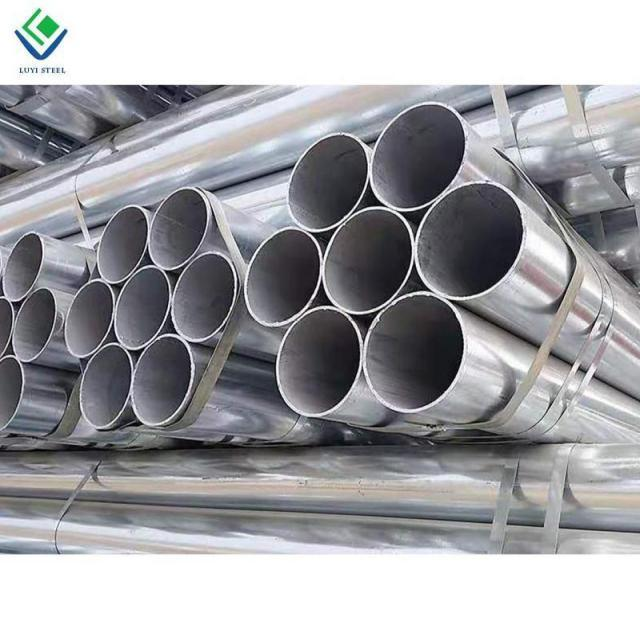pipe: (361, 289, 470, 415), (415, 182, 528, 303), (370, 100, 468, 209), (275, 305, 367, 417), (323, 206, 418, 314), (285, 131, 373, 232), (243, 226, 323, 328), (171, 252, 243, 345), (129, 332, 197, 428), (146, 183, 212, 272), (112, 263, 174, 352), (78, 341, 135, 429), (95, 202, 151, 286), (63, 275, 115, 360), (11, 286, 60, 366), (1, 227, 46, 303), (0, 354, 27, 434)
